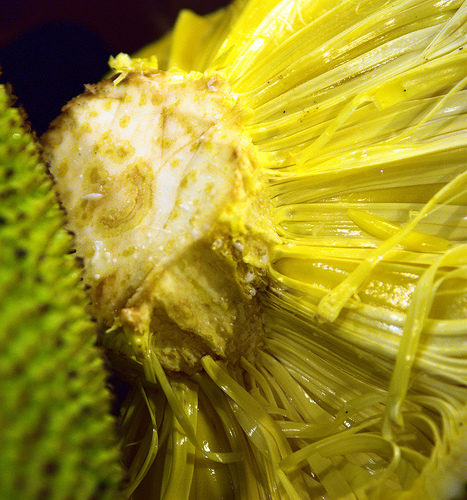jackfruit: (40, 0, 465, 498), (0, 81, 121, 498)
